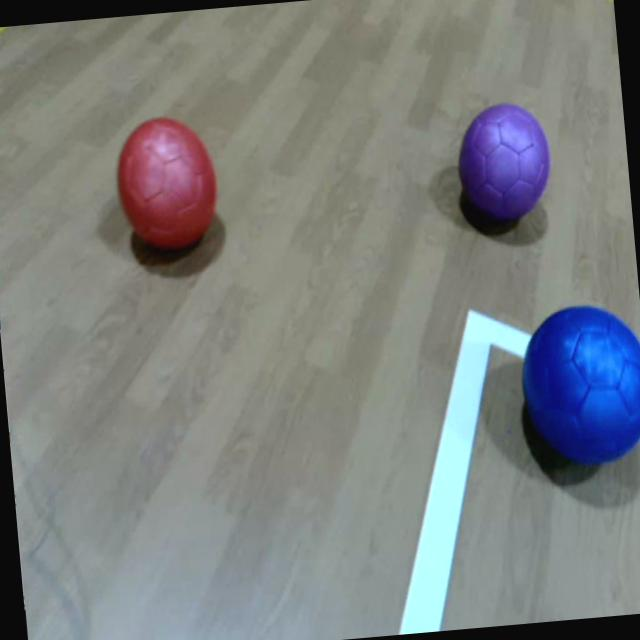blue_ball: (516, 299, 640, 475)
purple_ball: (450, 98, 557, 238)
red_ball: (110, 108, 223, 258)
